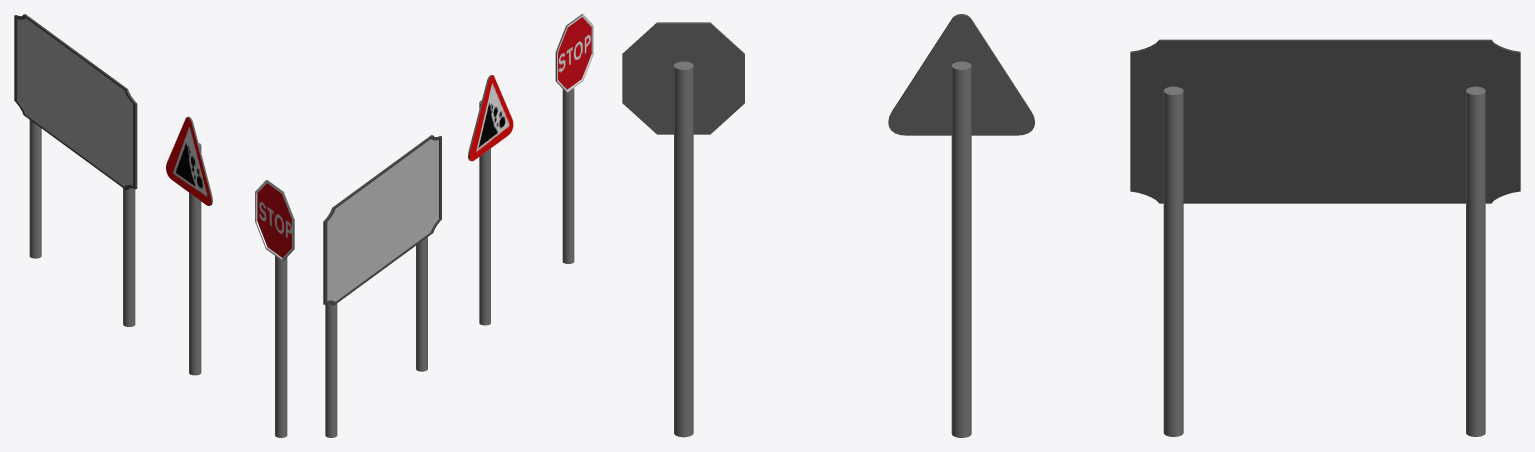
Rendered from SignPost.fbx.
3 renders of one model, left to right at view 1: azimuth 30°, elevation 25°; view 2: azimuth 150°, elevation 25°; view 3: azimuth 270°, elevation 25°, orthographic. The views are drawn at different scales.
Parts seen in each view (by area): view 1: BillBoard, StopSign, FallingRocksSign; view 2: BillBoard, StopSign, FallingRocksSign; view 3: BillBoard, StopSign, FallingRocksSign.
Boxes of the visible parts, x1,y1,x2,y2 form: BillBoard: (14,14,137,326); StopSign: (255,180,294,437); FallingRocksSign: (166,116,212,375); BillBoard: (323,135,441,437); StopSign: (555,14,593,263); FallingRocksSign: (468,75,513,325); BillBoard: (1130,39,1520,436); StopSign: (622,22,744,437); FallingRocksSign: (888,14,1034,437).
Size of the model in its own units: 19.73 by 372 by 729.
